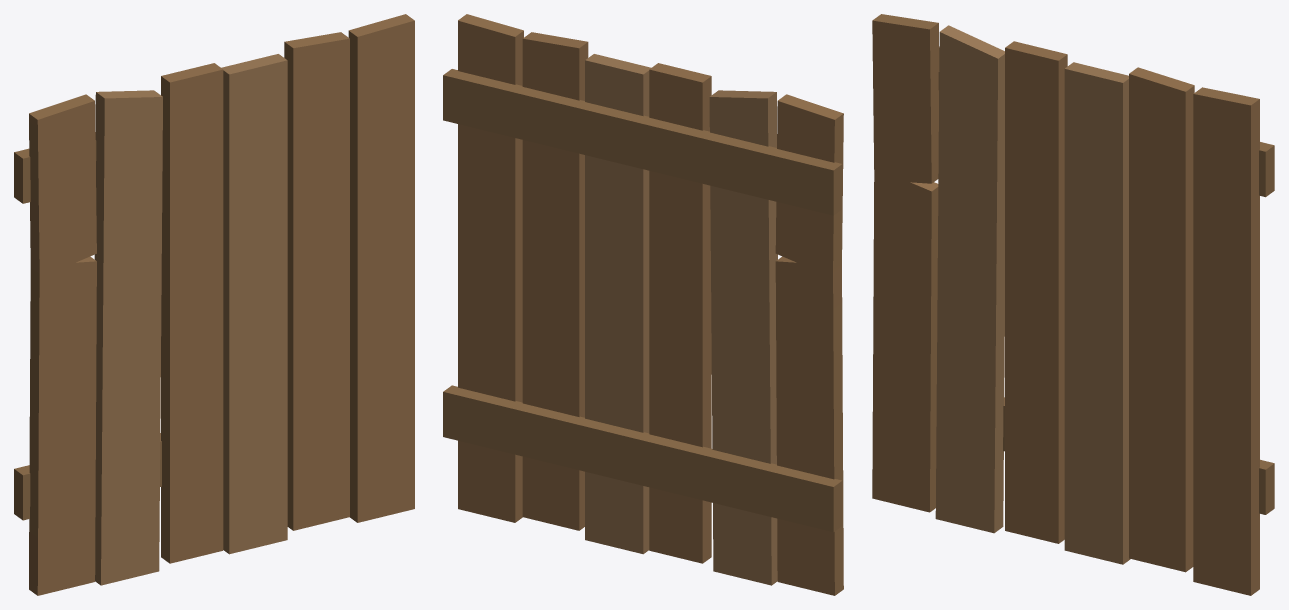
Rendered from Fence_03.fbx.
The picture shows the model from 3 angles, left to right: view 1: azimuth 30°, elevation 25°; view 2: azimuth 150°, elevation 25°; view 3: azimuth 330°, elevation 25°; orthographic projection.
Parts seen in each view (by area): view 1: Fence_03; view 2: Fence_03; view 3: Fence_03.
Boxes of the visible parts, x1=… form: Fence_03: x1=14, y1=14, x2=414, y2=595; Fence_03: x1=443, y1=14, x2=843, y2=595; Fence_03: x1=872, y1=14, x2=1274, y2=595.
Size of the model in its own units: 102 by 122 by 7.66.
